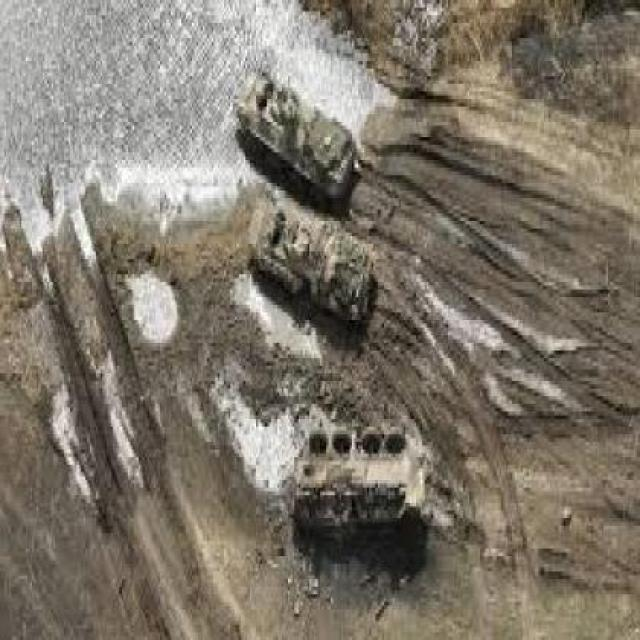tank: (292, 418, 432, 553), (246, 188, 379, 328), (235, 70, 356, 212)
